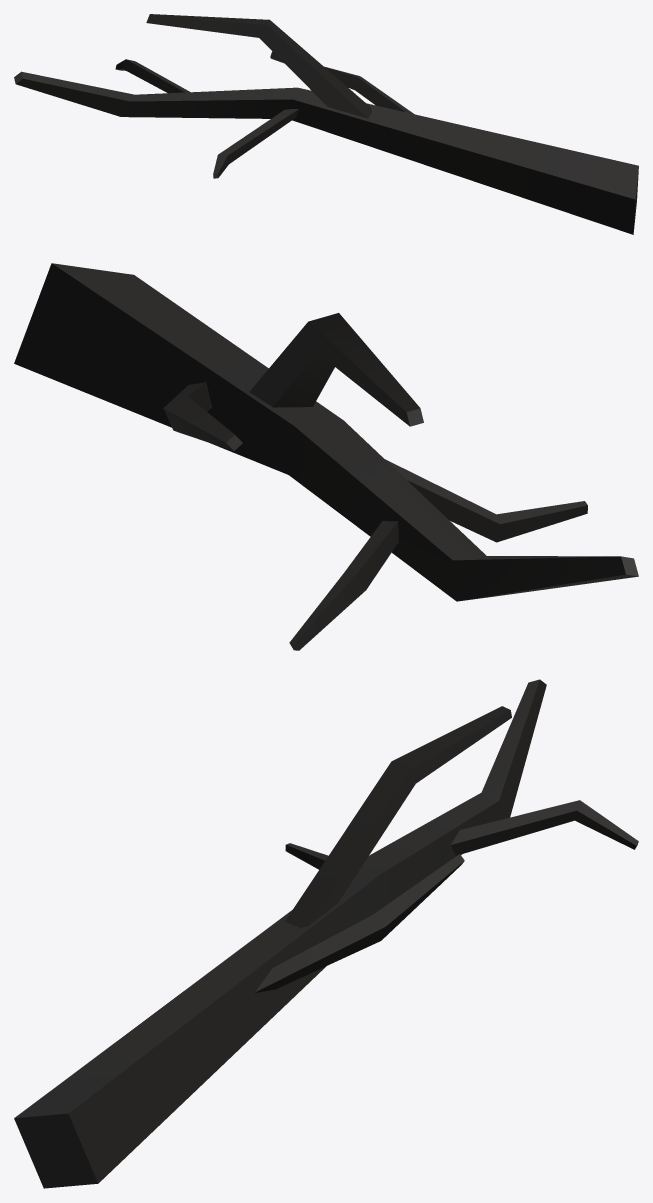
File: arbre.fbx
3 views of the same model, one above another, from view 1: azimuth 30°, elevation 25°; view 2: azimuth 150°, elevation 25°; view 3: azimuth 270°, elevation 25° (orthographic). The views are drawn at different scales.
Parts seen in each view (by area): view 1: arbree; view 2: arbree; view 3: arbree.
Boxes of the visible parts, x1,y1,x2,y2 form: arbree: (14,14,638,234); arbree: (14,263,638,650); arbree: (14,679,638,1188).
Size of the model in its own units: 6.67 by 2.45 by 5.4.
